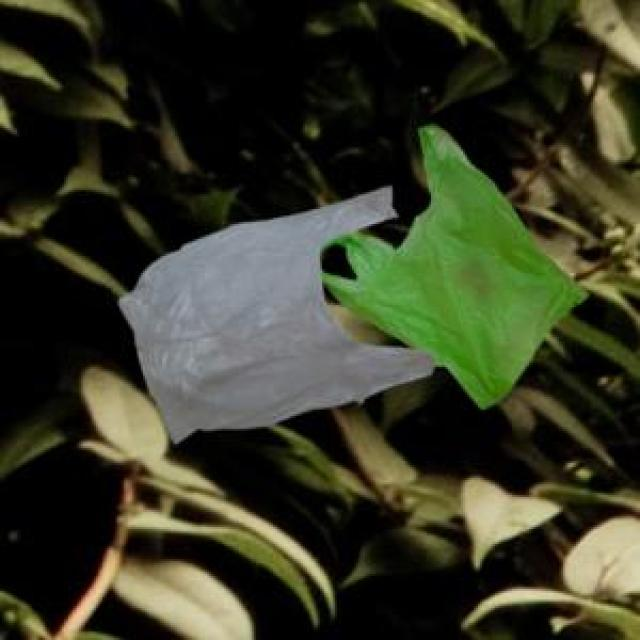waste: (120, 125, 581, 442)
